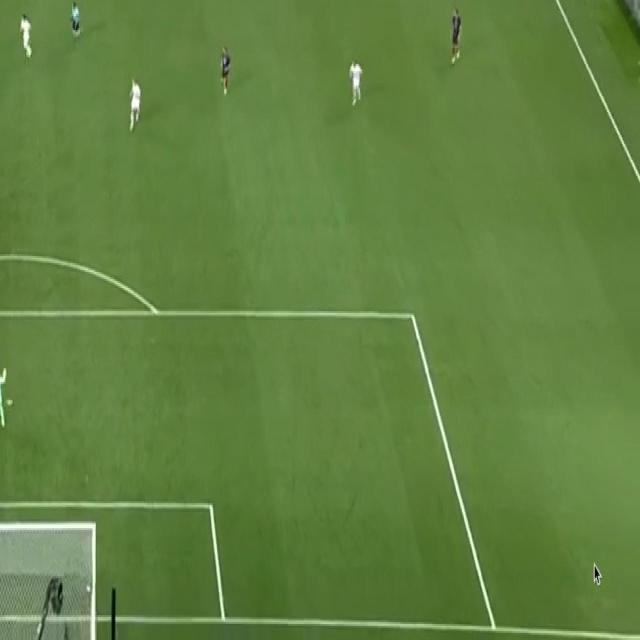player-white: (14, 8, 34, 66), (345, 54, 365, 112), (126, 72, 144, 136), (448, 3, 464, 65), (0, 362, 13, 438), (218, 42, 232, 104), (69, 0, 83, 52)
